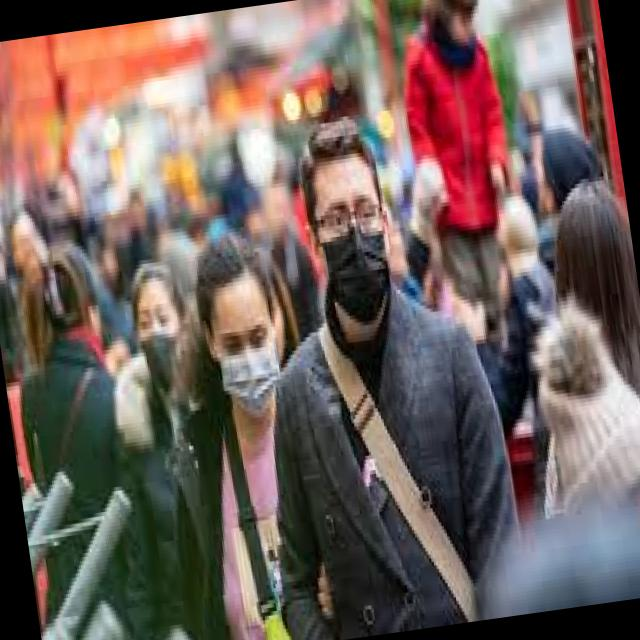Jacket: (253, 300, 538, 640), (384, 30, 534, 256)
